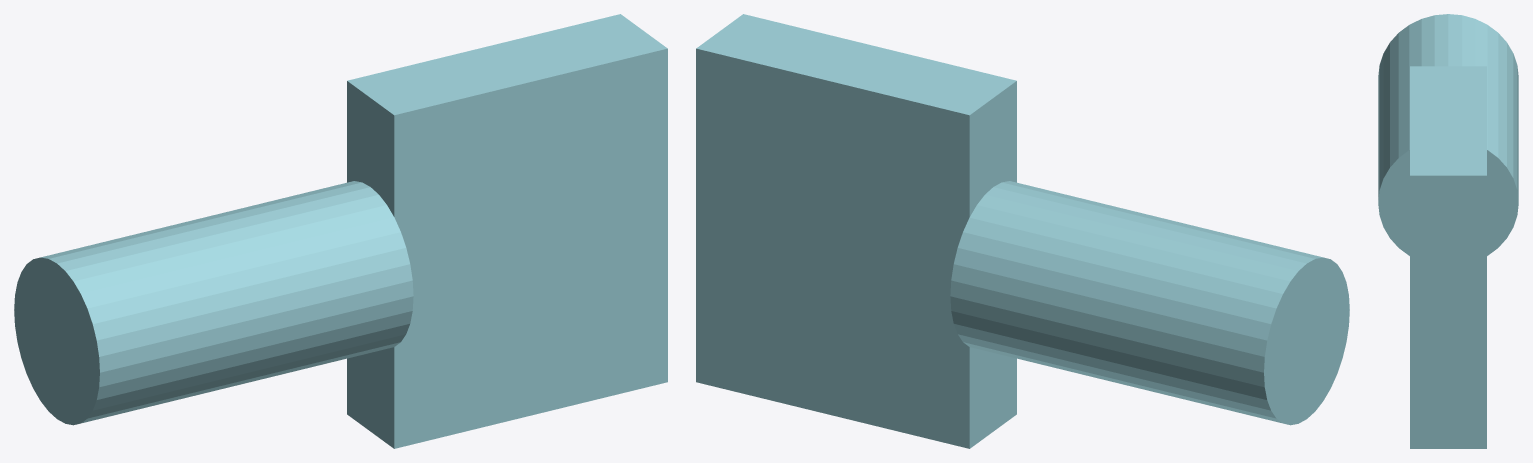
Rendered from cylinder_brush_v11010.obj.
The picture shows the model from 3 angles, left to right: view 1: azimuth 30°, elevation 25°; view 2: azimuth 150°, elevation 25°; view 3: azimuth 270°, elevation 25°; orthographic projection. The views are drawn at different scales.
Size of the model in its own units: 0.2199 by 0.1194 by 0.0557.
Materials: 1 (1 with a texture image).
